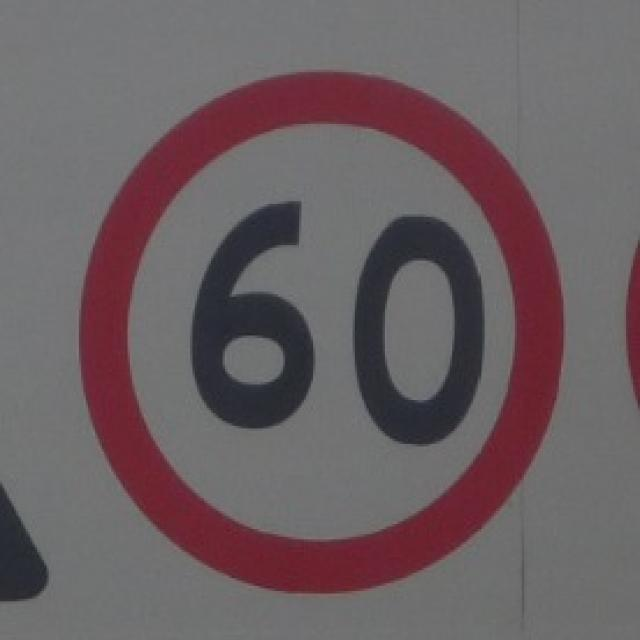Speed Limit -60-: (187, 198, 490, 459)
